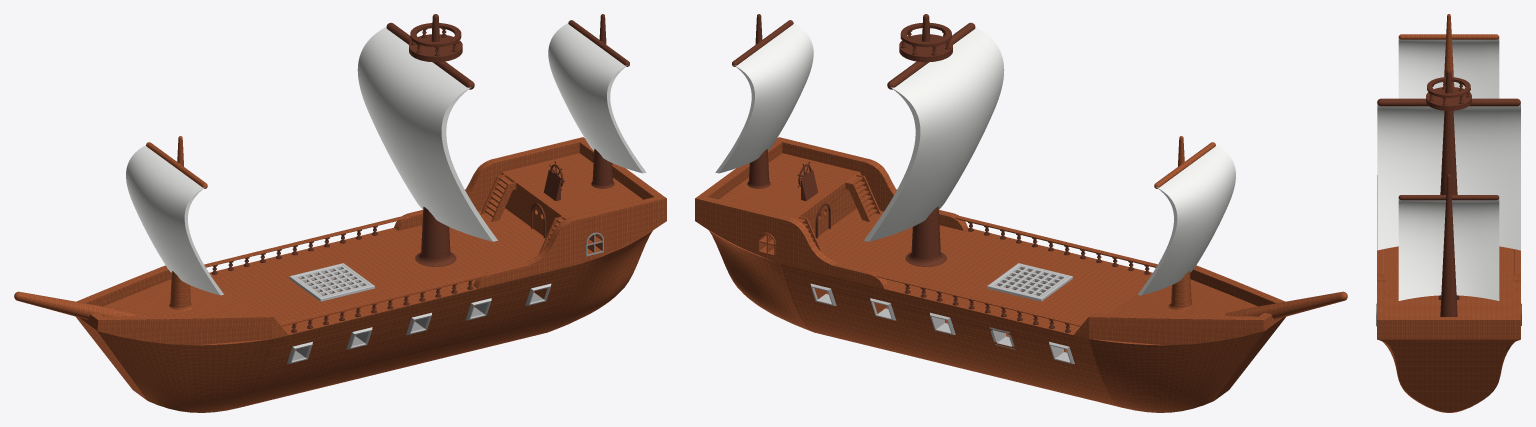
The model's file is PirateShip-transformed.glb.
The picture shows the model from 3 angles, left to right: view 1: azimuth 30°, elevation 25°; view 2: azimuth 150°, elevation 25°; view 3: azimuth 270°, elevation 25°; orthographic projection. The views are drawn at different scales.
Parts seen in each view (by area): view 1: Body12, Body2.001, Body2, Body15, Body5; view 2: Body12, Body2.001, Body2, Body15; view 3: Body2.001, Body12, Body2.
Part boxes in pixels (x1,y1,x2,y2): Body12: (14,136,666,412); Body2.001: (126,23,646,295); Body2: (211,14,629,332); Body15: (287,263,551,363); Body5: (287,232,603,361); Body12: (695,136,1347,412); Body2.001: (715,23,1235,295); Body2: (732,14,1150,332); Body15: (810,263,1074,363); Body2.001: (1377,38,1520,300); Body12: (1377,14,1521,412); Body2: (1377,69,1520,316).
Size of the model in its own units: 1177 by 630 by 284.
Materials: 5 (2 with a texture image).
